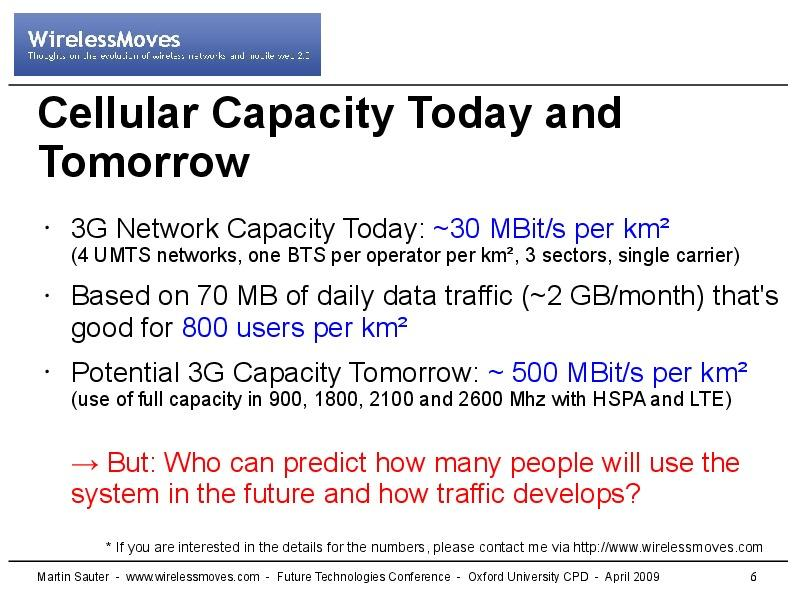paragraph: (31, 207, 793, 557)
subtitle: (29, 87, 633, 196), (35, 566, 679, 592)
title: (23, 22, 315, 67)
